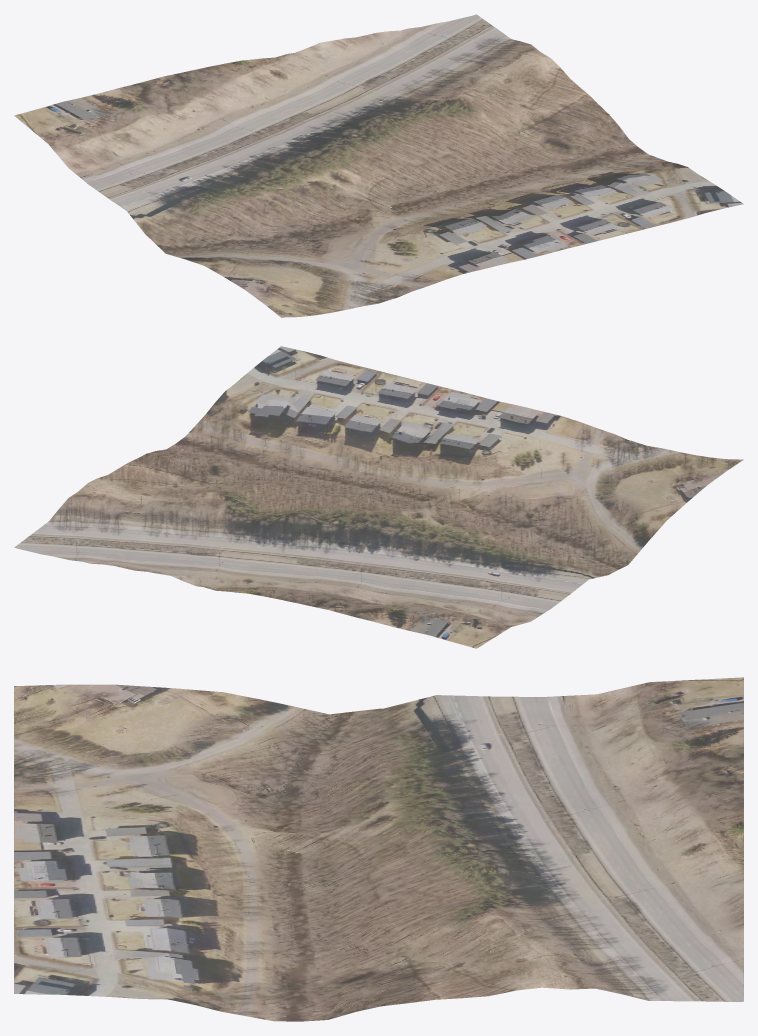
Rendered from CM_Terrain_24492302_6817746.fbx.
3 renders of one model, top to bottom at view 1: azimuth 30°, elevation 25°; view 2: azimuth 150°, elevation 25°; view 3: azimuth 270°, elevation 25°, orthographic. The views are drawn at different scales.
Visible parts, largest first — view 1: CM_Terrain_24492302_6817746_LOD0; view 2: CM_Terrain_24492302_6817746_LOD0; view 3: CM_Terrain_24492302_6817746_LOD0.
Part boxes in pixels (bbox=[...]): CM_Terrain_24492302_6817746_LOD0: bbox=[14, 14, 743, 317]; CM_Terrain_24492302_6817746_LOD0: bbox=[14, 346, 743, 648]; CM_Terrain_24492302_6817746_LOD0: bbox=[14, 677, 743, 1021].
Size of what is drawn, in the model's own units: 205 by 13.72 by 205.
